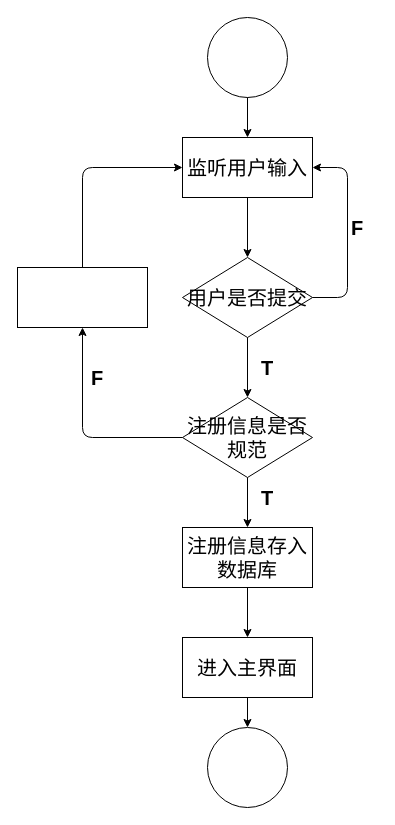
Image size: 395x825. Some labels were removed from this diagram. Each missing label, with the centre of its shape:
开始: the point at 247,57
结束: the point at 247,767
输出错误信息: the point at 82,297
